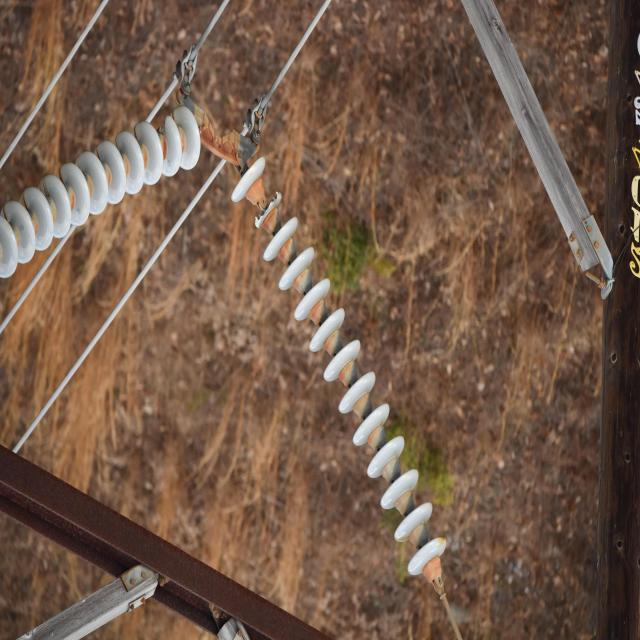broken: (252, 187, 287, 227)
insulator: (231, 157, 447, 575), (1, 104, 199, 283)
